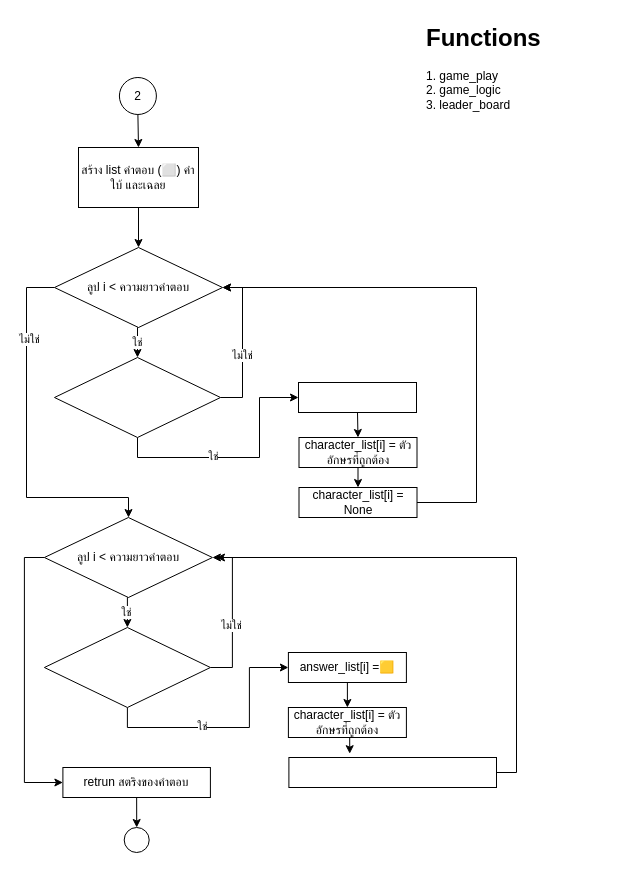
Image size: 622x870. Some labels were removed from this diagram. Each missing label, with the box of its shape:
answer [i] == ⬜ และมีตัวอักษรนั้นอยู่ในเฉลย: (43, 626, 210, 708)
answer_list[i] = 🟩: (298, 382, 416, 412)
character_list [char_list.index(answer[i])] = None: (288, 756, 496, 788)
คำตอบและเฉลยที่ [i] เหมือนกันหรือไม่: (54, 356, 220, 438)
